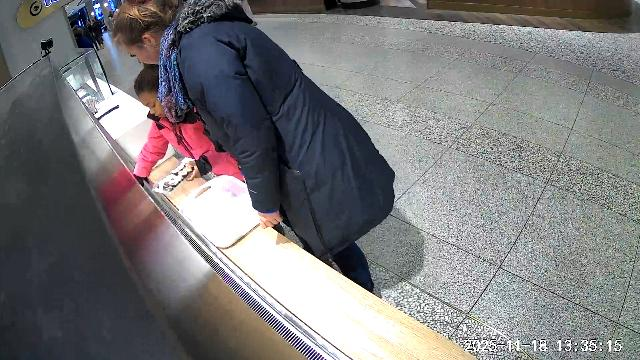sushi-box: (153, 158, 196, 196)
